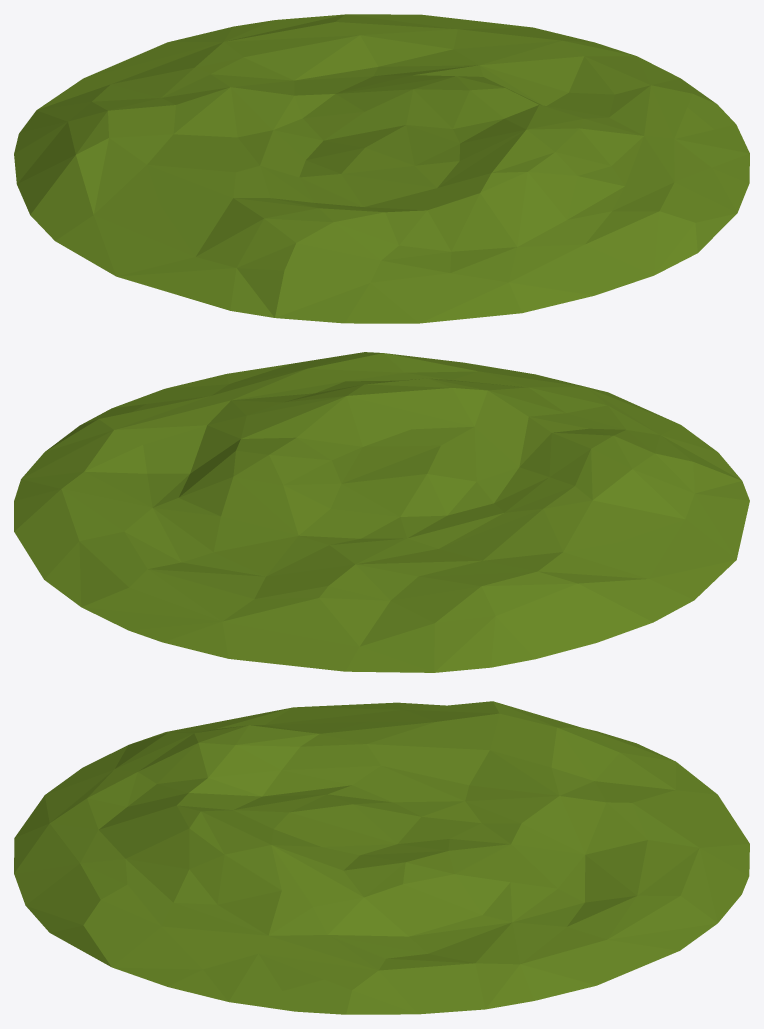
The model's file is Ground_B_02.fbx.
3 views of the same model, one above another, from view 1: azimuth 30°, elevation 25°; view 2: azimuth 150°, elevation 25°; view 3: azimuth 270°, elevation 25° (orthographic).
Parts seen in each view (by area): view 1: Ground_B_02; view 2: Ground_B_02; view 3: Ground_B_02.
Part boxes in pixels (x1,y1,x2,y2): Ground_B_02: [14, 14, 749, 323]; Ground_B_02: [14, 352, 749, 672]; Ground_B_02: [14, 701, 749, 1014].
Bounding box in the file's own units: 19.08 × 1.65 × 19.01.
